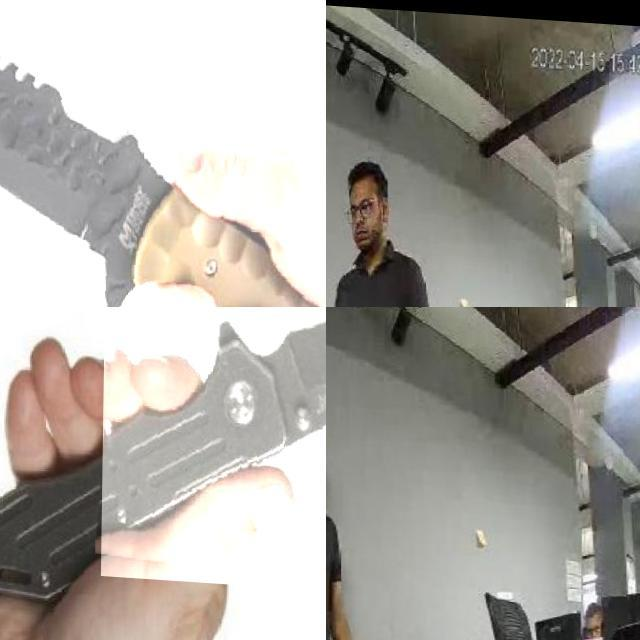-: (0, 0, 326, 307), (102, 307, 326, 595)
